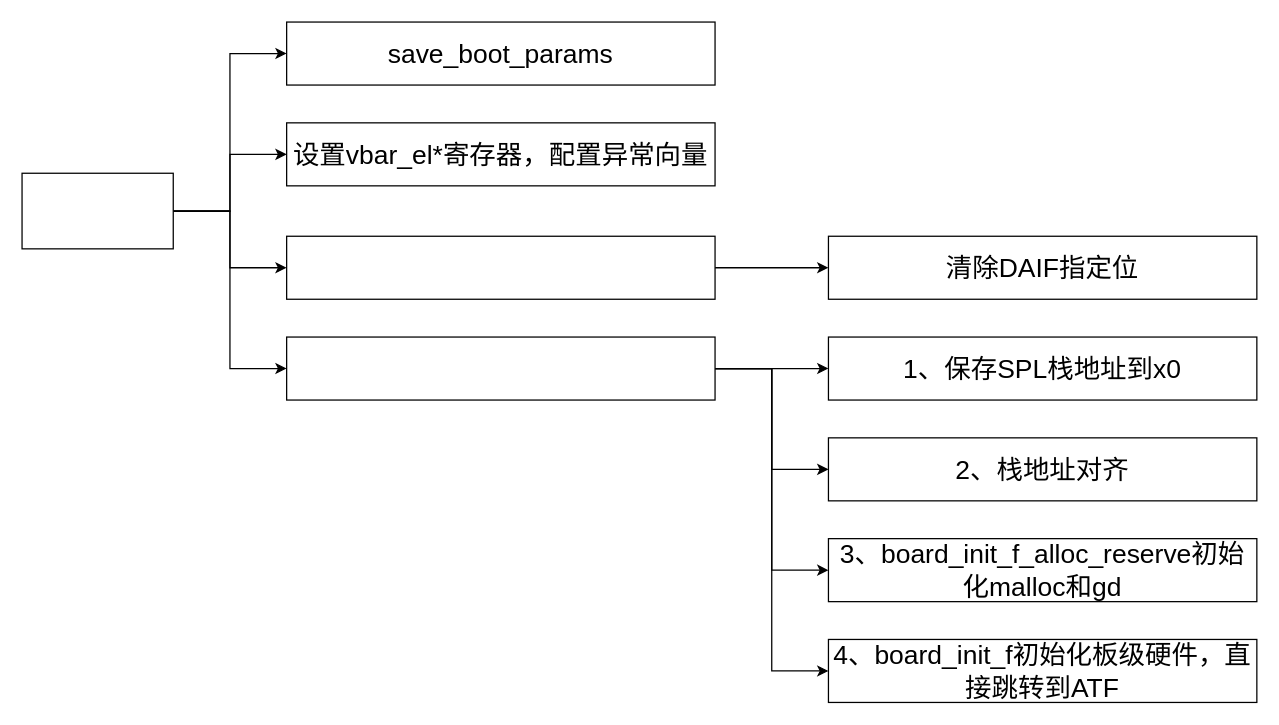
The diagram is 1279 pixels wide and 725 high, and some of its shapes have lost their labels. Here are the shapes that lost their labels. From the top down, the centre of each, then its label:
the point at 97,210: _start
the point at 500,267: lowlevel_init
the point at 500,368: _main
